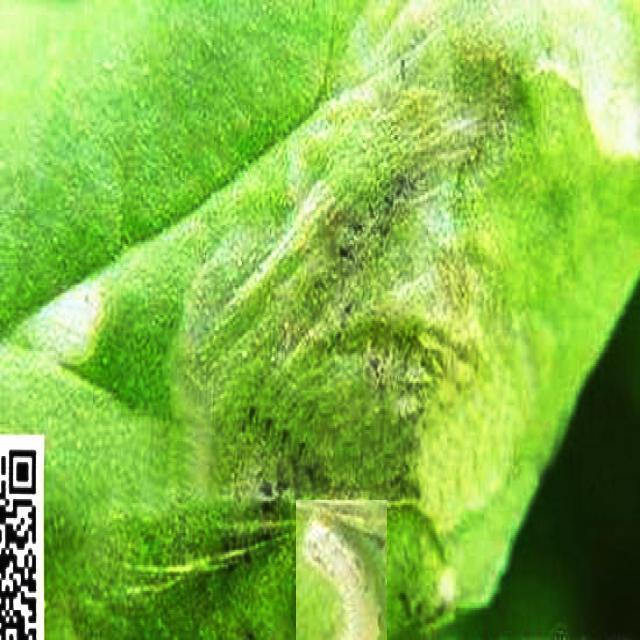whorl-maggot: (296, 500, 387, 640)
